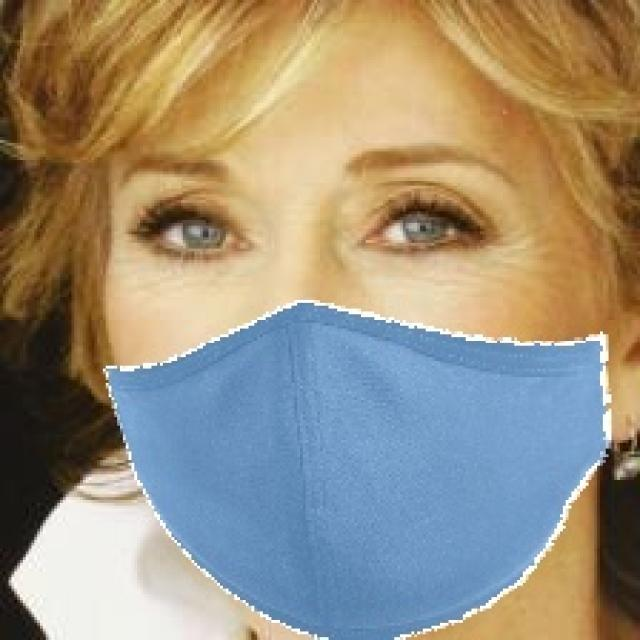mask: (44, 241, 611, 640)
